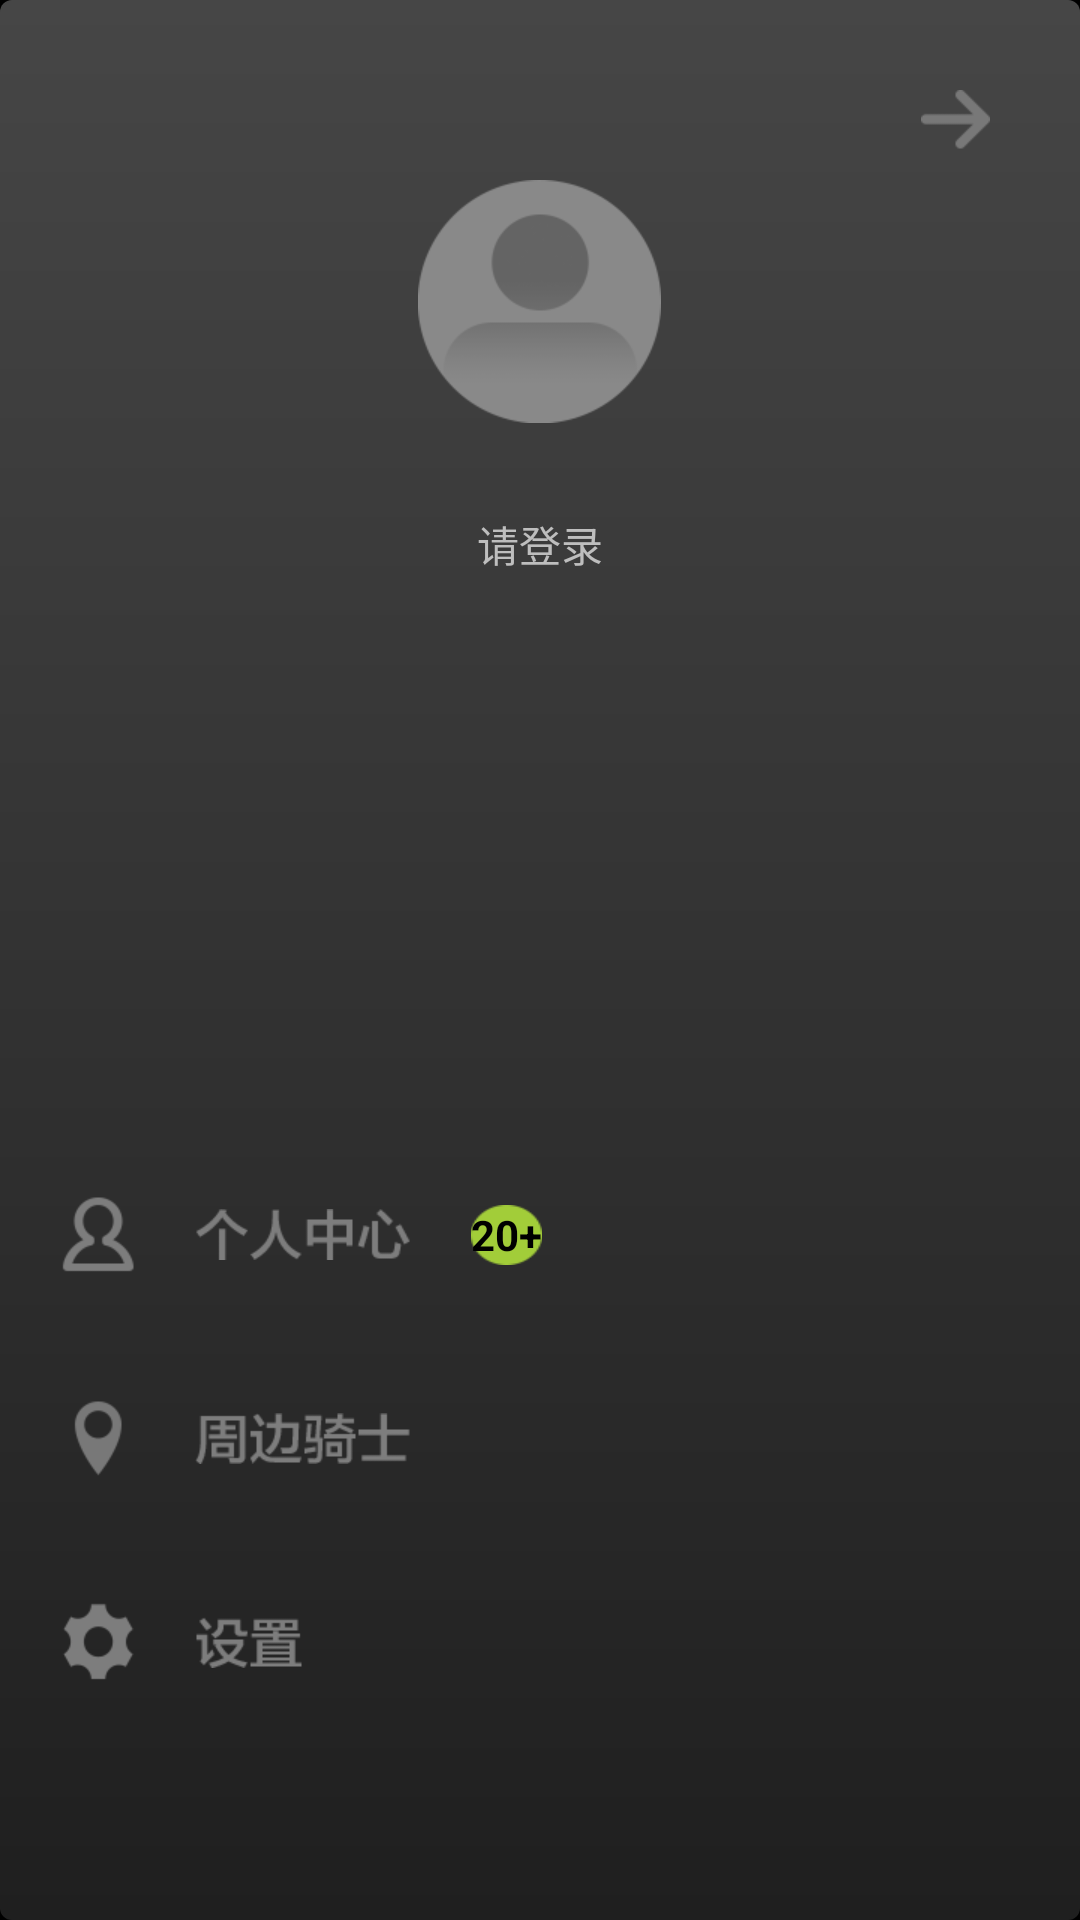

Where to tap for icons on this 1080×1920 app screen, as [x,y]:
head emote: [539,301]
location: [98,1438]
mi arrow: [955,119]
setting: [98,1641]
user: [98,1234]
